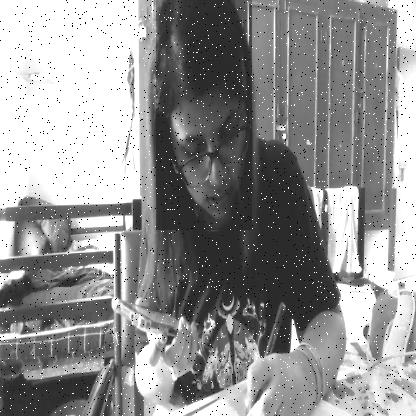Normal: (156, 0, 252, 230)
